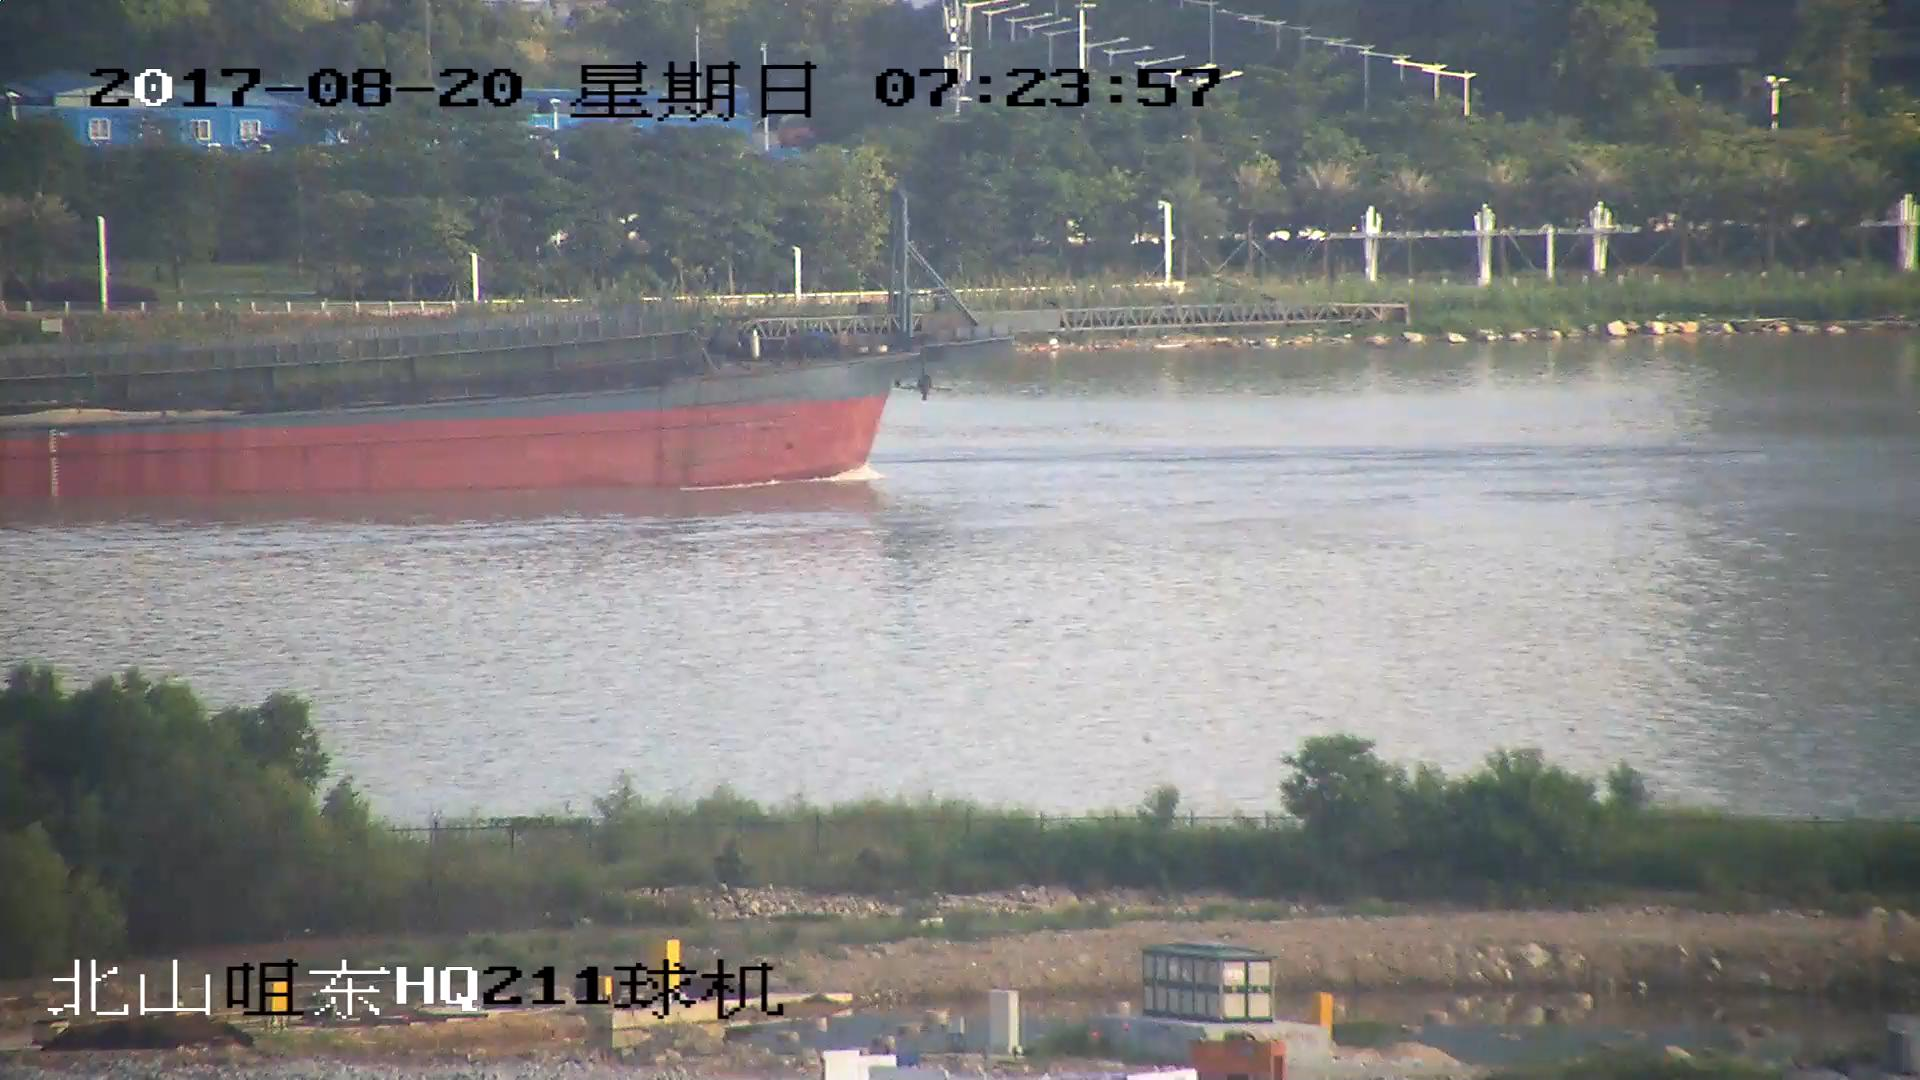bulk cargo carrier: (1, 171, 1392, 502)
